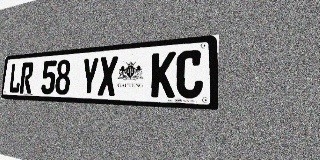5: (41, 60, 57, 94)
8: (54, 59, 72, 95)
C: (176, 49, 203, 98)
K: (151, 51, 176, 98)
L: (8, 63, 22, 93)
R: (19, 62, 34, 94)
X: (97, 56, 118, 96)
Y: (80, 57, 99, 96)
